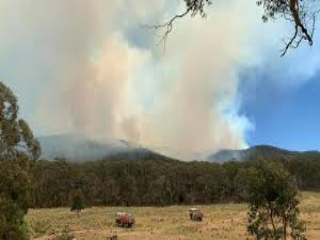smoke: (163, 51, 251, 154), (51, 53, 120, 160), (117, 83, 150, 155)
